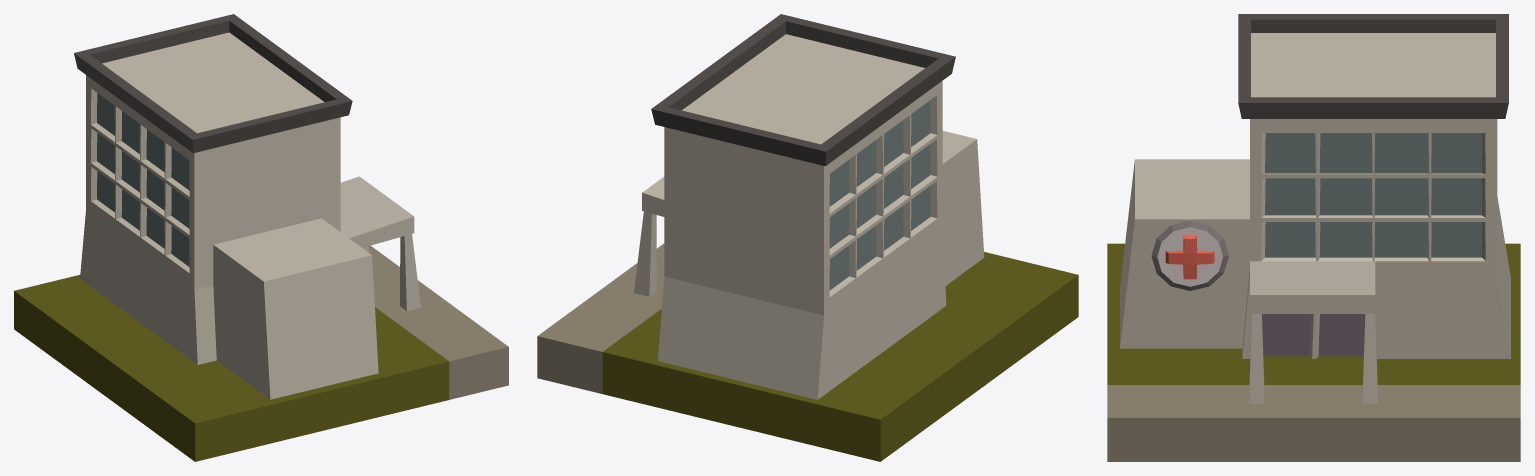
File: Hospital Grande.fbx
The picture shows the model from 3 angles, left to right: view 1: azimuth 30°, elevation 25°; view 2: azimuth 150°, elevation 25°; view 3: azimuth 270°, elevation 25°; orthographic projection. The views are drawn at different scales.
Visible parts, largest first — view 1: Hospital Grande; view 2: Hospital Grande; view 3: Hospital Grande.
Part boxes in pixels (left/top/right/bottom): Hospital Grande: left=14, top=14, right=508, bottom=461; Hospital Grande: left=537, top=14, right=1078, bottom=461; Hospital Grande: left=1107, top=14, right=1520, bottom=461.
Size of the model in its own units: 200 by 162 by 200.
